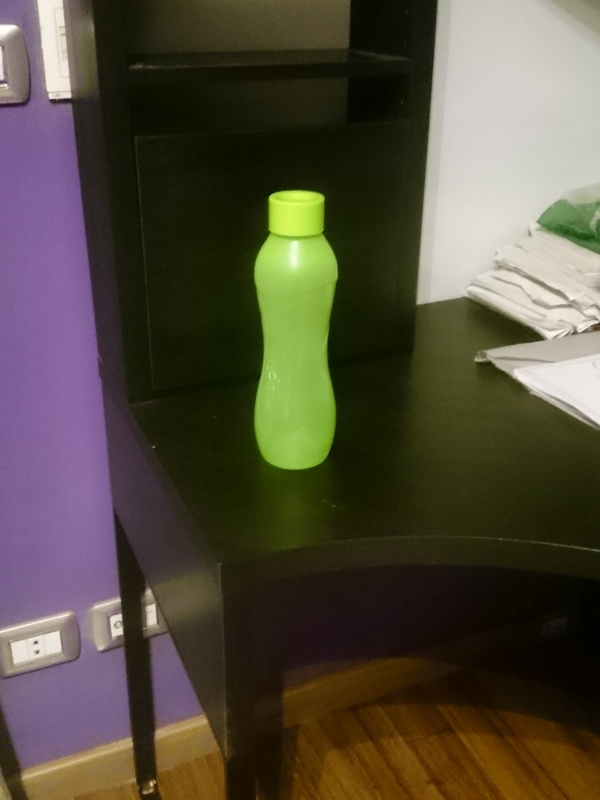my bottle: (250, 191, 338, 471)
